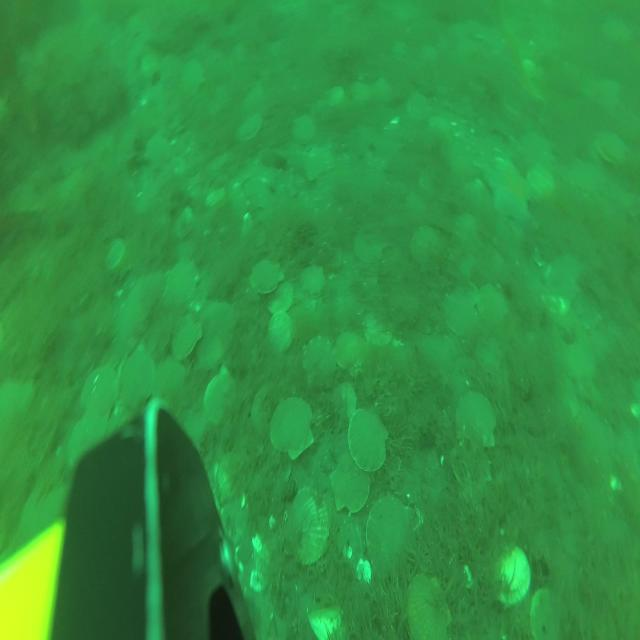scallop: (366, 492, 412, 582), (284, 484, 332, 568), (402, 569, 454, 640), (347, 399, 389, 475), (270, 394, 316, 461), (453, 387, 498, 455), (493, 536, 532, 608), (328, 452, 371, 513), (120, 346, 156, 416), (201, 368, 239, 433), (66, 413, 106, 472), (78, 364, 122, 416), (300, 334, 338, 392), (443, 282, 479, 340), (162, 258, 202, 310), (169, 315, 205, 367), (151, 353, 185, 408), (564, 338, 598, 392), (408, 220, 444, 268), (475, 280, 510, 327), (248, 256, 287, 298), (334, 329, 369, 375), (596, 125, 630, 170), (250, 381, 278, 435), (362, 306, 396, 350), (352, 225, 385, 267), (267, 308, 295, 357), (529, 586, 553, 640), (475, 334, 504, 377), (265, 276, 296, 316), (144, 130, 174, 170), (306, 144, 336, 183), (526, 164, 558, 200), (404, 86, 430, 130), (180, 56, 206, 98), (234, 112, 264, 146), (345, 121, 371, 160), (335, 379, 358, 423), (300, 262, 327, 298), (290, 112, 319, 145), (172, 202, 195, 242), (103, 237, 128, 273), (350, 79, 372, 105), (325, 84, 345, 110), (374, 77, 392, 105)
starfish: (482, 153, 531, 224)
